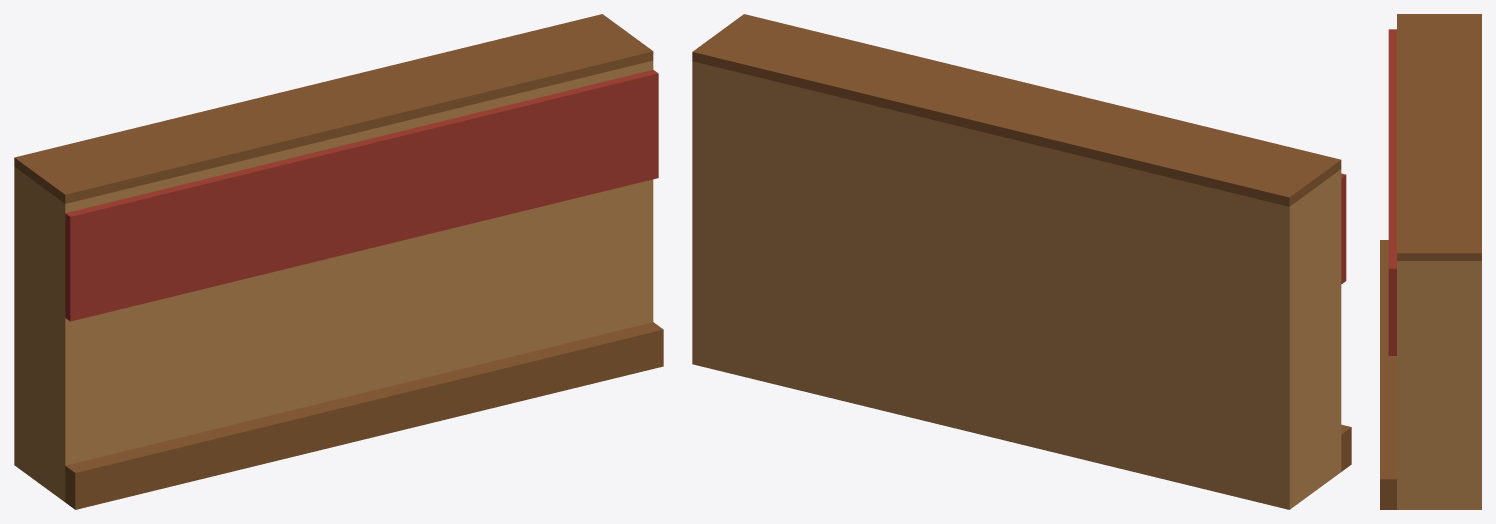
The model's file is wall.glb.
The picture shows the model from 3 angles, left to right: view 1: azimuth 30°, elevation 25°; view 2: azimuth 150°, elevation 25°; view 3: azimuth 270°, elevation 25°; orthographic projection. The views are drawn at different scales.
Parts seen in each view (by area): view 1: wall; view 2: wall; view 3: wall.
Part boxes in pixels (bbox=[...]): wall: bbox=[14, 14, 663, 509]; wall: bbox=[692, 14, 1351, 509]; wall: bbox=[1380, 14, 1481, 509].
Size of the model in its own units: 1 by 0.5 by 0.18.
1 material, 1 textured.
